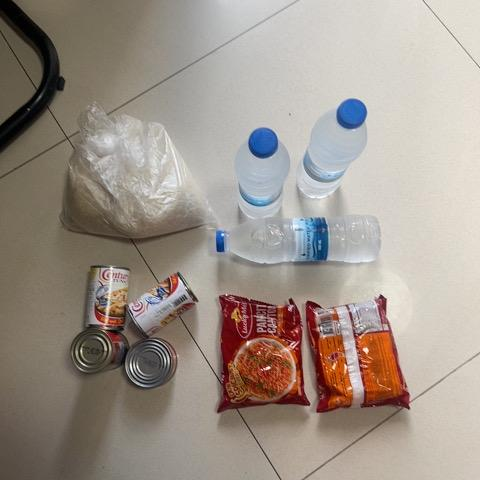Bottled Water: (213, 211, 386, 267), (295, 94, 370, 205), (226, 121, 293, 222)
Noodles: (303, 289, 414, 422), (215, 290, 311, 419)
canned-goods: (128, 261, 201, 338), (76, 261, 131, 335), (63, 324, 132, 374), (126, 334, 186, 391)
rice: (58, 98, 218, 241)
